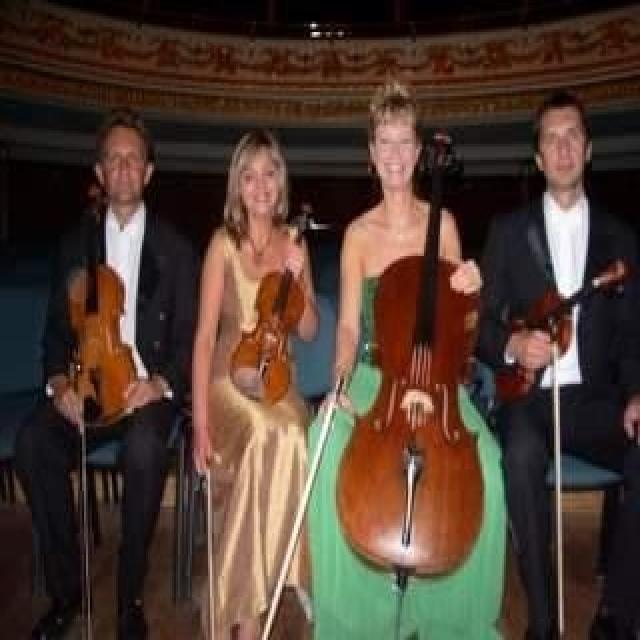cello: (330, 124, 488, 580)
violin: (61, 175, 142, 430), (496, 259, 629, 397), (230, 201, 317, 402)
